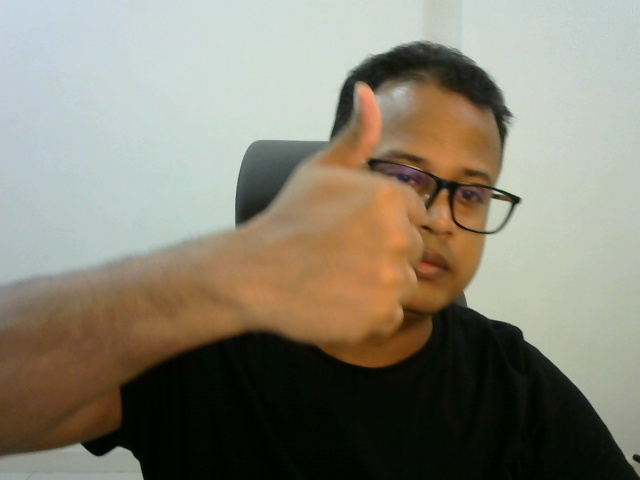ThumbsUp: (262, 81, 428, 348)
